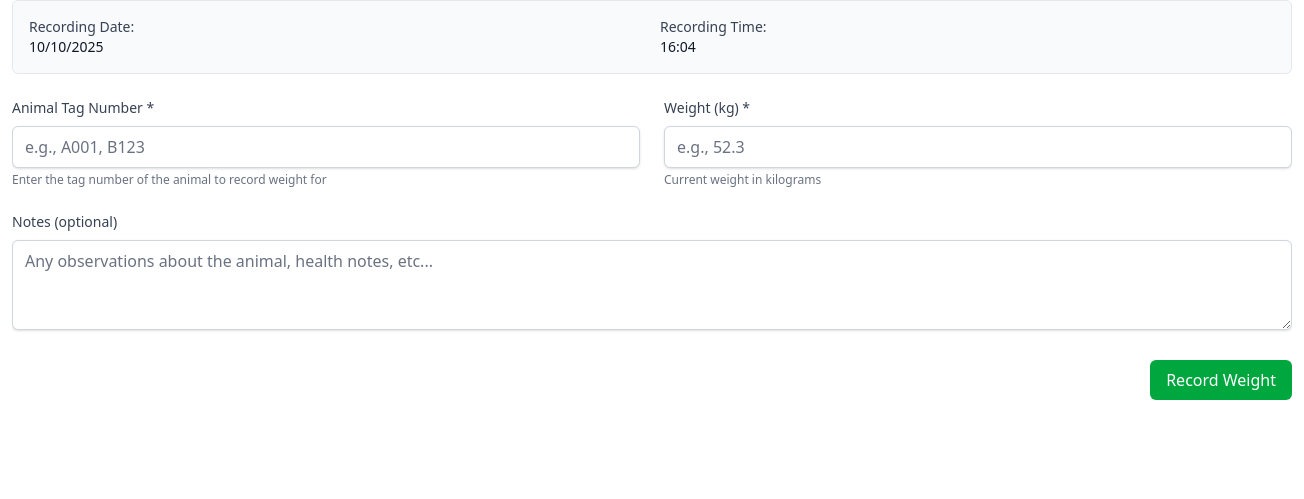
Test case: WeightRecordingForm › should show error message on failed submission
Type "A999" into the field labelled "Animal Tag Number *".
click(326, 147); type("A999")  # box [12,126,640,168]
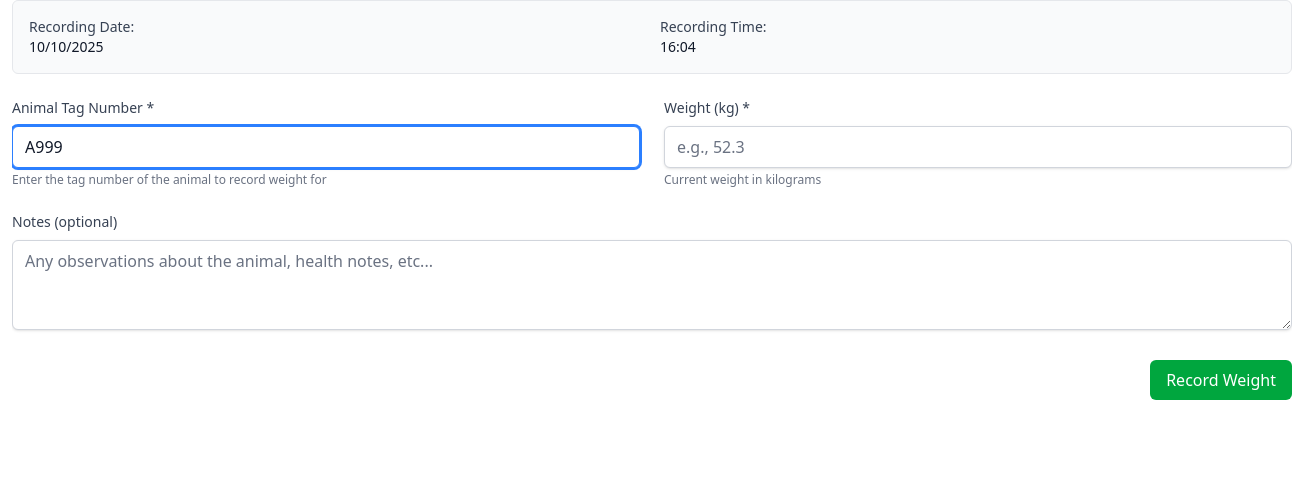
Type "52.3" into the number field labelled "Weight (kg) *".
click(978, 147); type("52.3")  # box [664,126,1292,168]
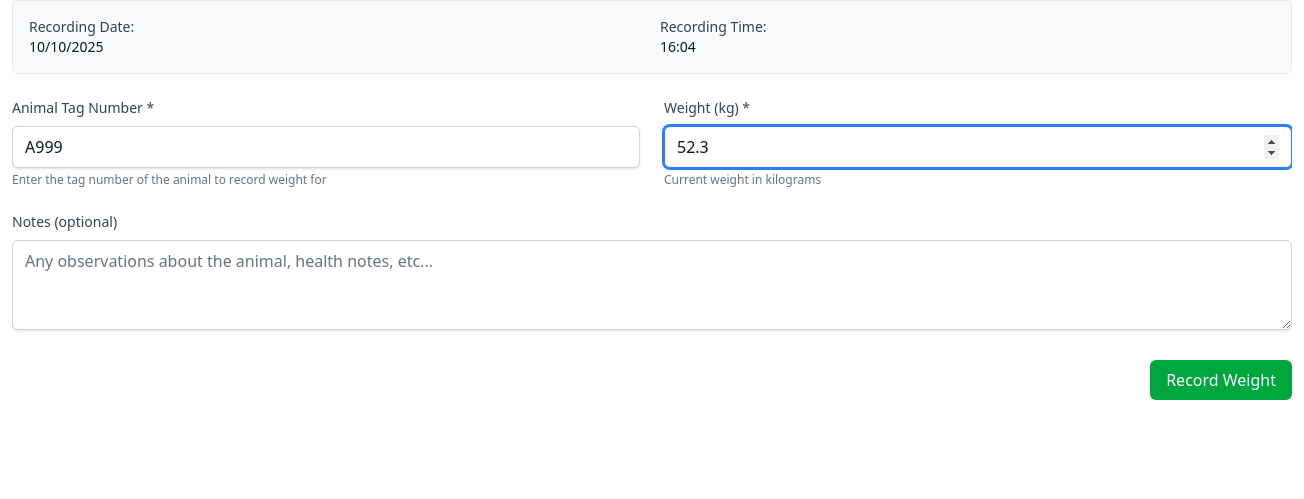
Click the button "Record Weight".
click(1221, 380)  # box [1150,360,1292,400]
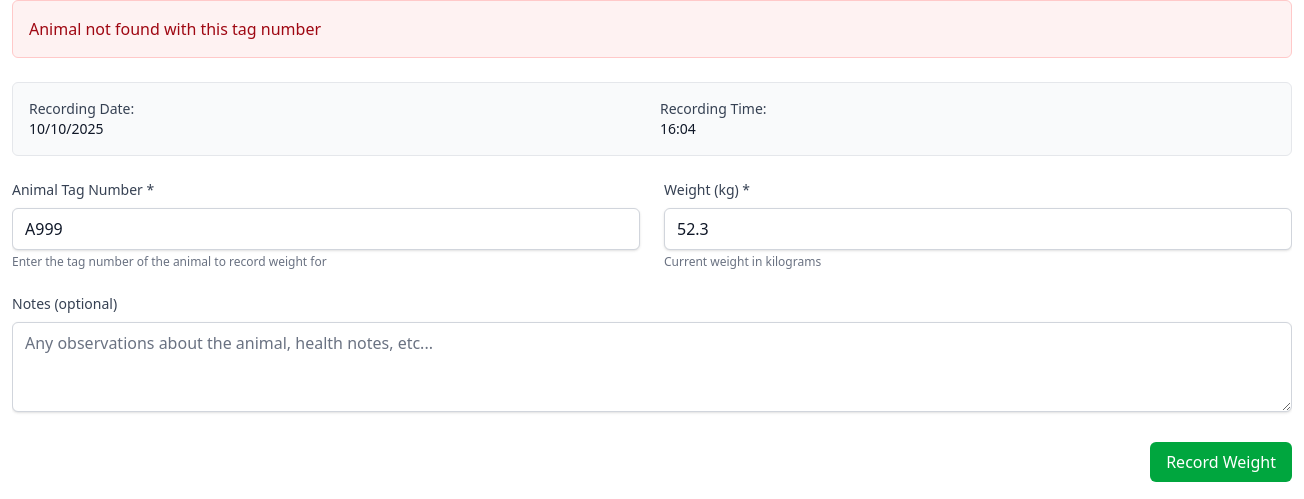
Check: the text "Animal not found with this tag number" is shown, box [12,0,1292,58]
